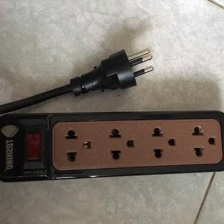three_eye_plug: (0, 104, 224, 185)
